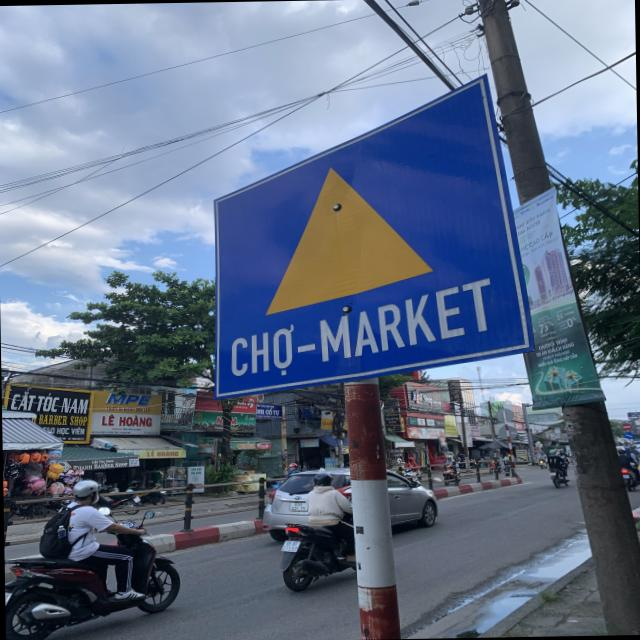Cho_Quay_Xe: (210, 91, 518, 393)
